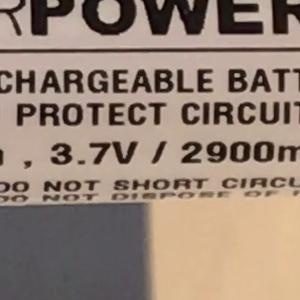3.7V: (41, 131, 145, 175)
